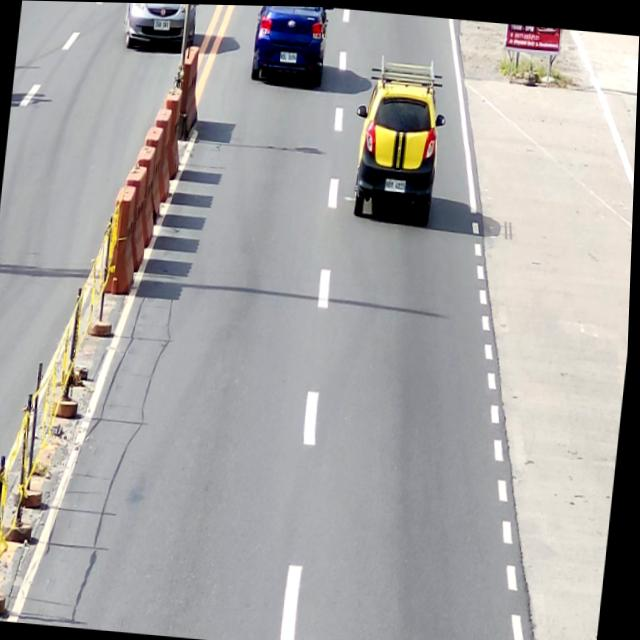Car: (346, 50, 452, 224), (246, 4, 333, 87), (120, 2, 198, 52)
License-Plate: (385, 175, 408, 192), (153, 16, 171, 31), (279, 50, 298, 62)
